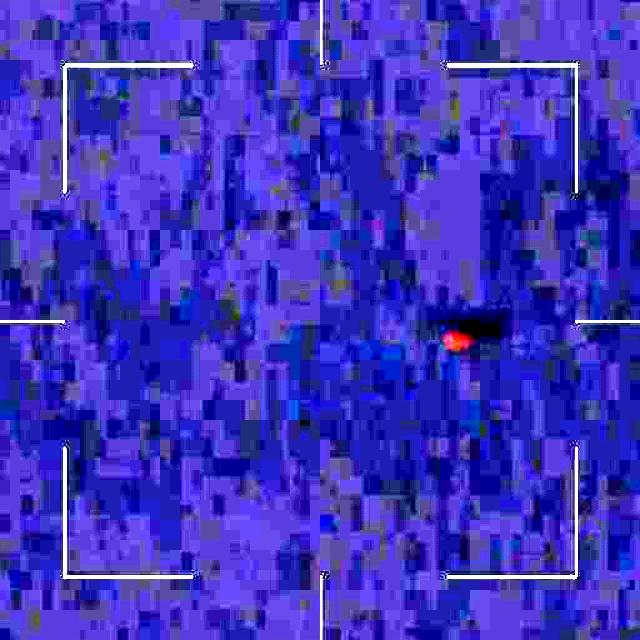bird: (440, 320, 474, 364)
